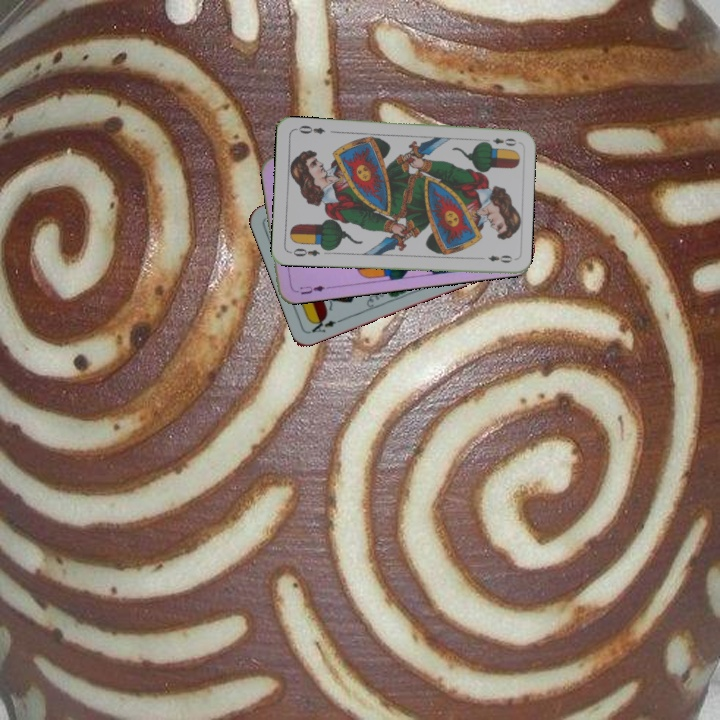EA: (307, 313, 345, 335)
EO: (479, 134, 519, 149), (286, 244, 322, 259)
EU: (291, 281, 331, 297)
